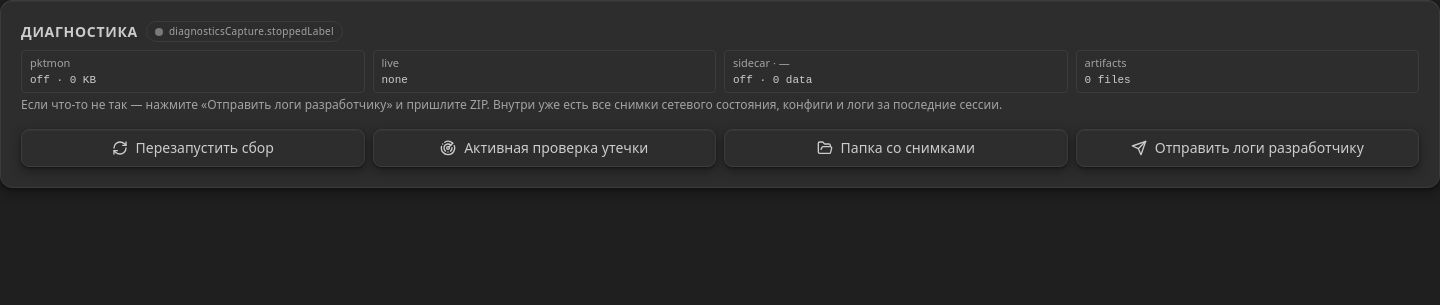
diagnostics ZIP UI ownership › card finishes current export, reports cleanup warning and forgets its token
Click the button "Отправить логи разработчику".
click(1247, 148)  # box [1076, 129, 1419, 167]
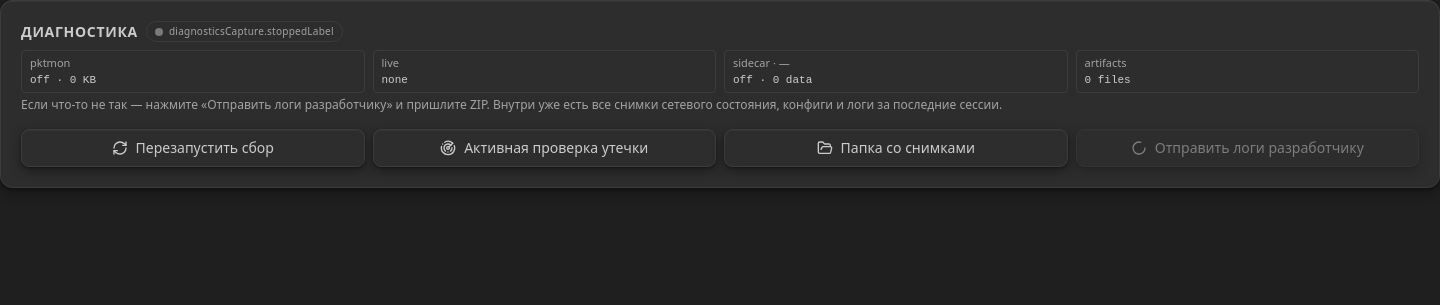
Click the button "Отправить логи разработчику".
click(1247, 148)  # box [1076, 129, 1419, 167]
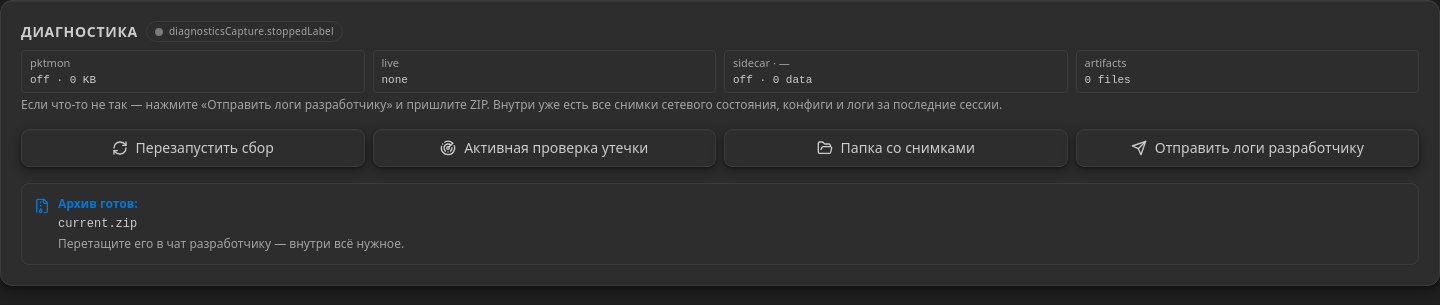
Now the text "current.zip" is shown, box [58, 217, 137, 231]
